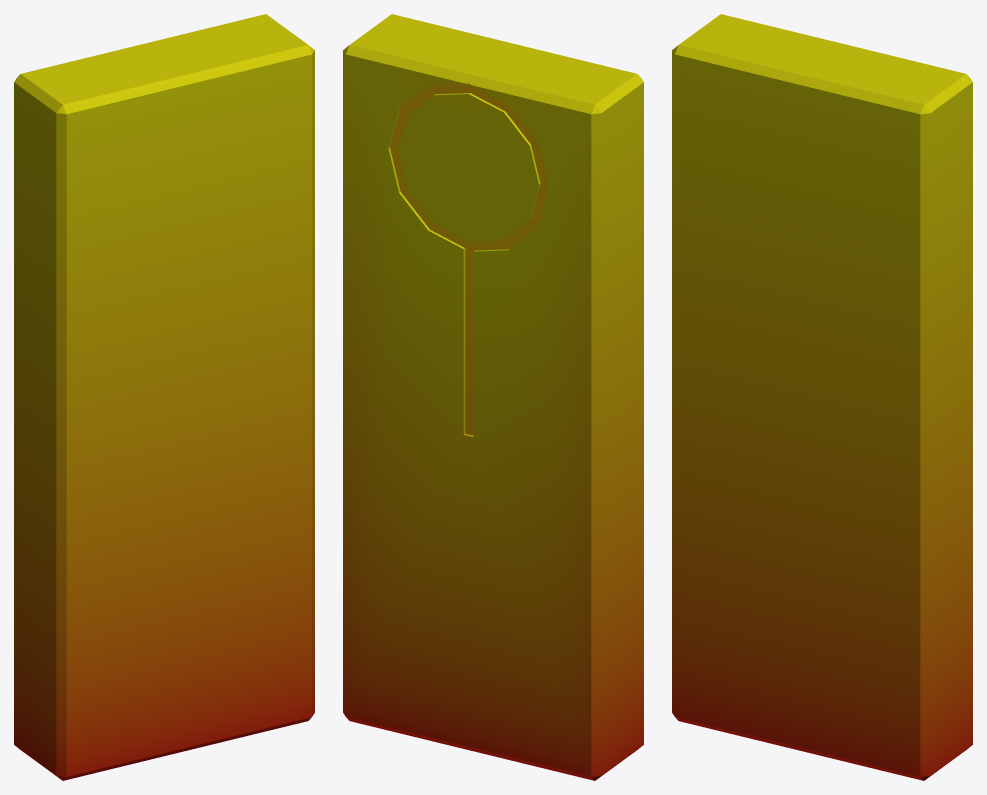
File: stele.glb
The picture shows the model from 3 angles, left to right: view 1: azimuth 30°, elevation 25°; view 2: azimuth 150°, elevation 25°; view 3: azimuth 330°, elevation 25°; orthographic projection.
Visible parts, largest first — view 1: stele; view 2: stele; view 3: stele.
Part boxes in pixels (x1=…): stele: x1=14, y1=14, x2=314, y2=780; stele: x1=343, y1=14, x2=643, y2=780; stele: x1=672, y1=14, x2=972, y2=780.
Size of what is drawn, in the model's own units: 1.2 by 3 by 0.4.
